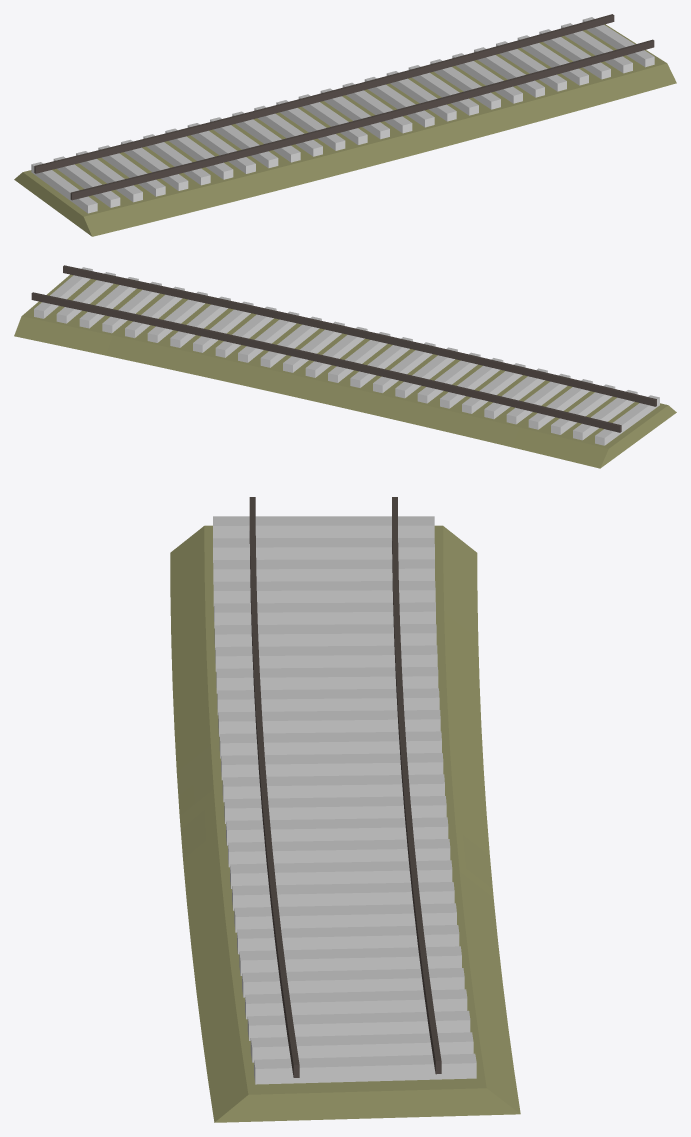
File: SM_Via_CurvaR240_v0_Hormigon_LOD0.fbx
The picture shows the model from 3 angles, top to bottom: view 1: azimuth 30°, elevation 25°; view 2: azimuth 150°, elevation 25°; view 3: azimuth 270°, elevation 25°; orthographic projection. The views are drawn at different scales.
Parts seen in each view (by area): view 1: SM_via_trazado_v20_LOD0; view 2: SM_via_trazado_v20_LOD0; view 3: SM_via_trazado_v20_LOD0.
Boxes of the visible parts, x1,y1,x2,y2 form: SM_via_trazado_v20_LOD0: (14,14,676,236); SM_via_trazado_v20_LOD0: (14,265,676,468); SM_via_trazado_v20_LOD0: (170,497,520,1122).
Size of the model in its own units: 15.81 by 0.72 by 4.11.
